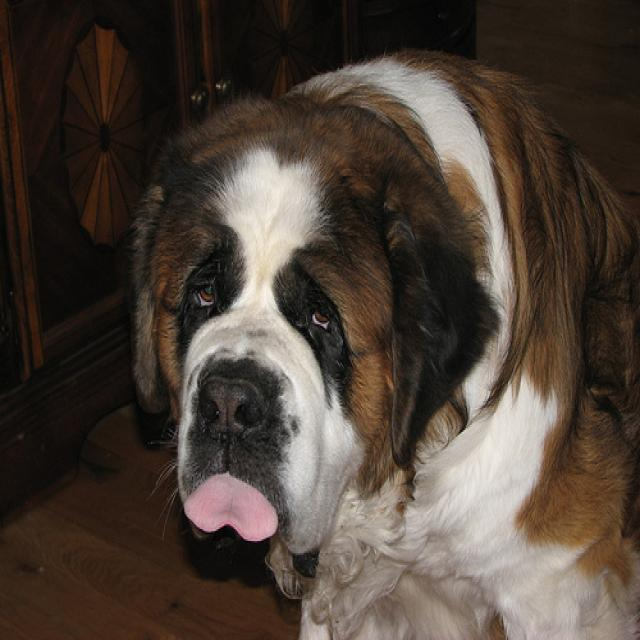dog-saint_bernard: (119, 39, 637, 637)
